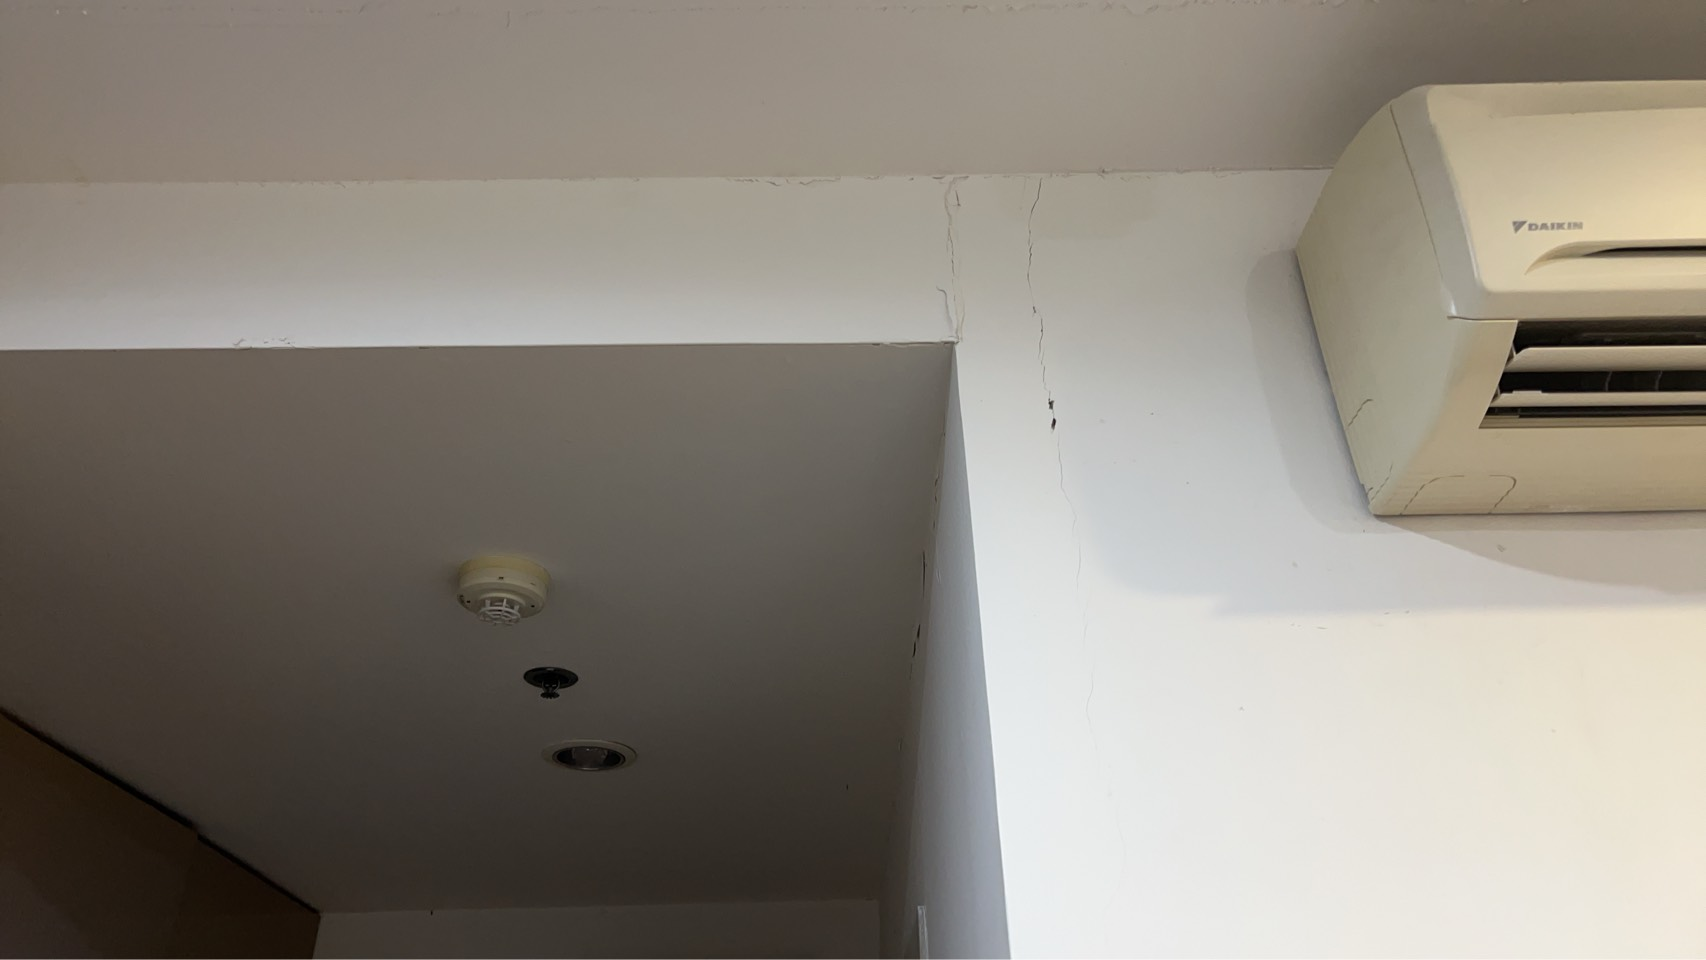Low: (924, 173, 1172, 583)
